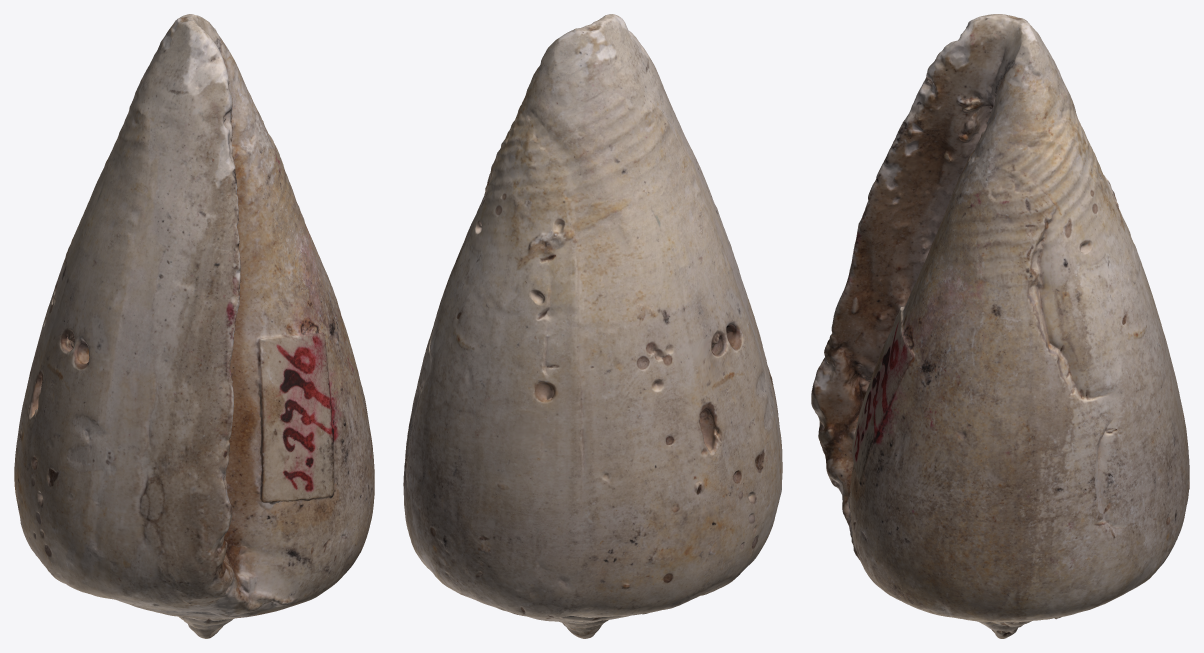
Rendered from EWS0016201.glb.
3 views of the same model, side by side, from view 1: azimuth 30°, elevation 25°; view 2: azimuth 150°, elevation 25°; view 3: azimuth 270°, elevation 25° (orthographic).
Parts seen in each view (by area): view 1: input; view 2: input; view 3: input.
Boxes of the visible parts, left/top/right/bottom form: input: left=14, top=14, right=374, bottom=638; input: left=403, top=14, right=782, bottom=638; input: left=811, top=14, right=1189, bottom=638.
Bounding box in the file's own units: 0.0296 × 0.0546 × 0.0305.
Materials: 1 (1 with a texture image).
